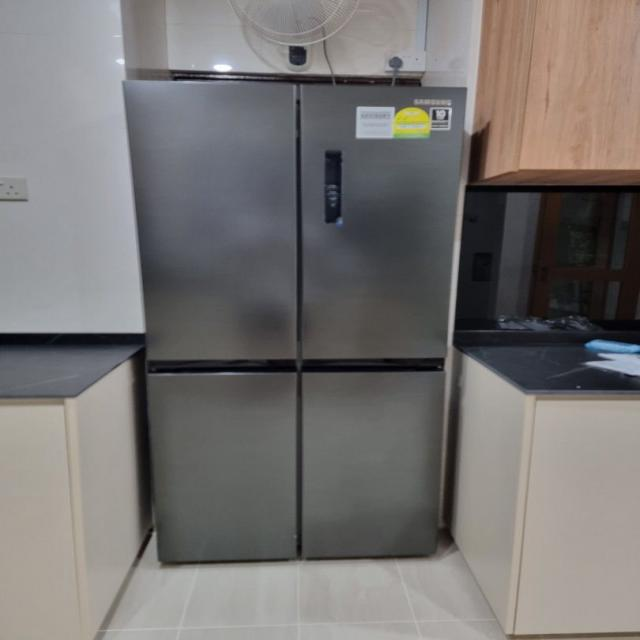refrigerator: (123, 77, 470, 565)
